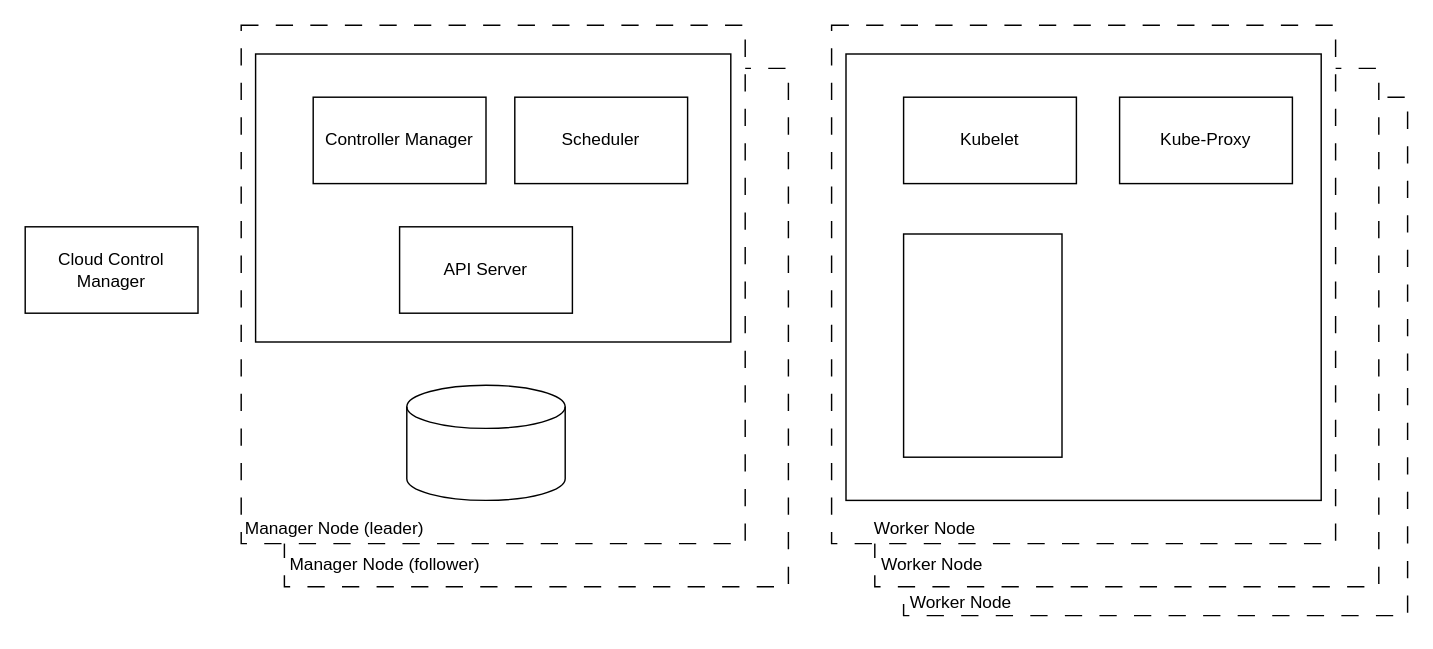
The diagram is 1433 pixels wide and 649 high, and some of its shapes have lost their labels. Here are the shapes that lost their labels. From the top down, the box of each, then its label:
(902, 233, 1062, 457): Pod 1
(405, 384, 565, 500): etcd
